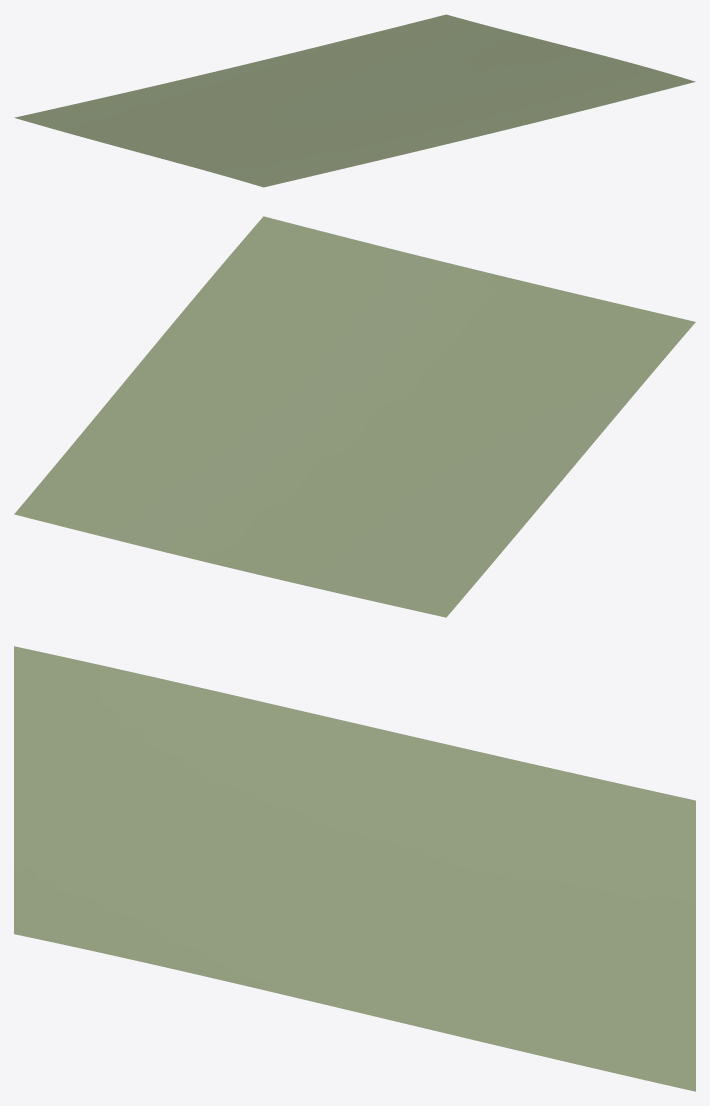
File: expanse-30-5.glb
3 views of the same model, one above another, from view 1: azimuth 30°, elevation 25°; view 2: azimuth 150°, elevation 25°; view 3: azimuth 270°, elevation 25° (orthographic). The views are drawn at different scales.
Visible parts, largest first — view 1: expanse-30-5; view 2: expanse-30-5; view 3: expanse-30-5.
Boxes of the visible parts, left/top/right/bottom form: expanse-30-5: left=14, top=14, right=695, bottom=187; expanse-30-5: left=14, top=216, right=695, bottom=617; expanse-30-5: left=14, top=646, right=695, bottom=1091.
Bounding box in the file's own units: 256 × 65.84 × 256.
